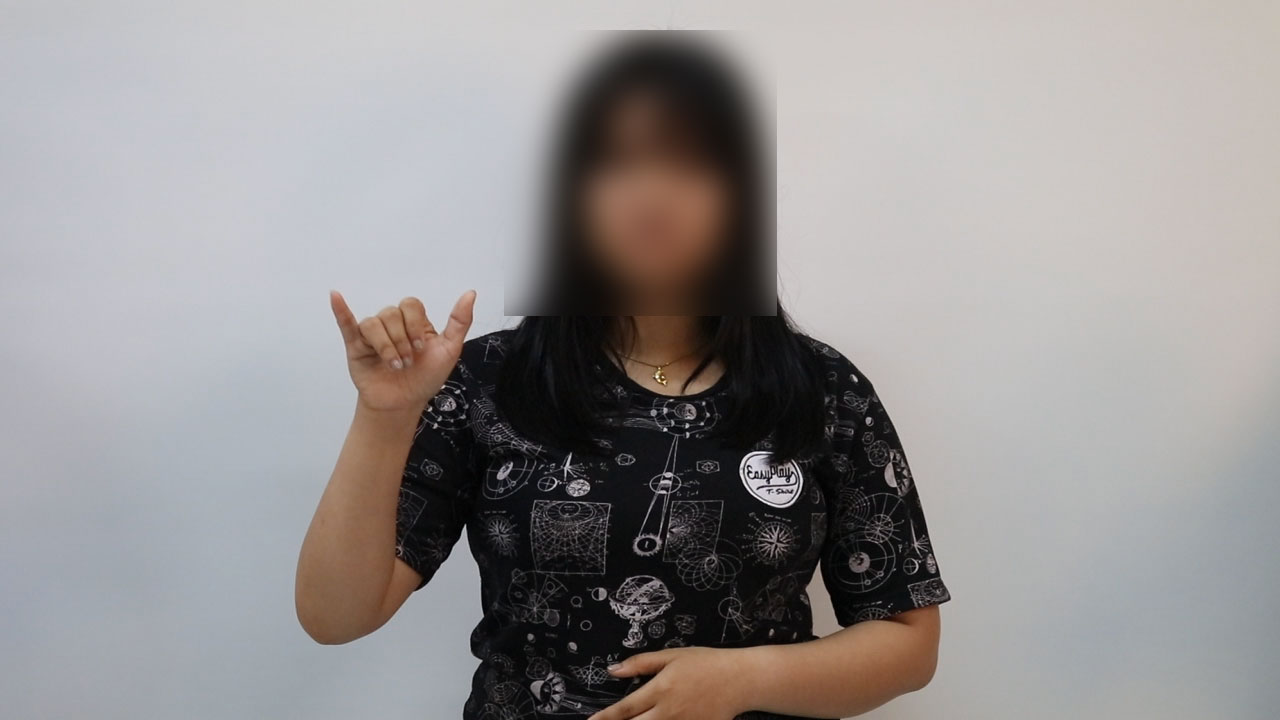yor: (321, 288, 486, 418)
